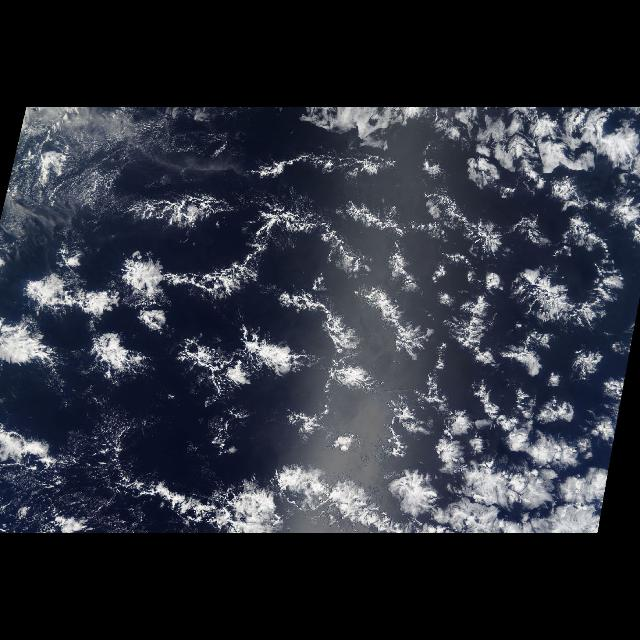Flower: (393, 357, 609, 533), (0, 239, 184, 405)
Sugar: (0, 108, 210, 226)
